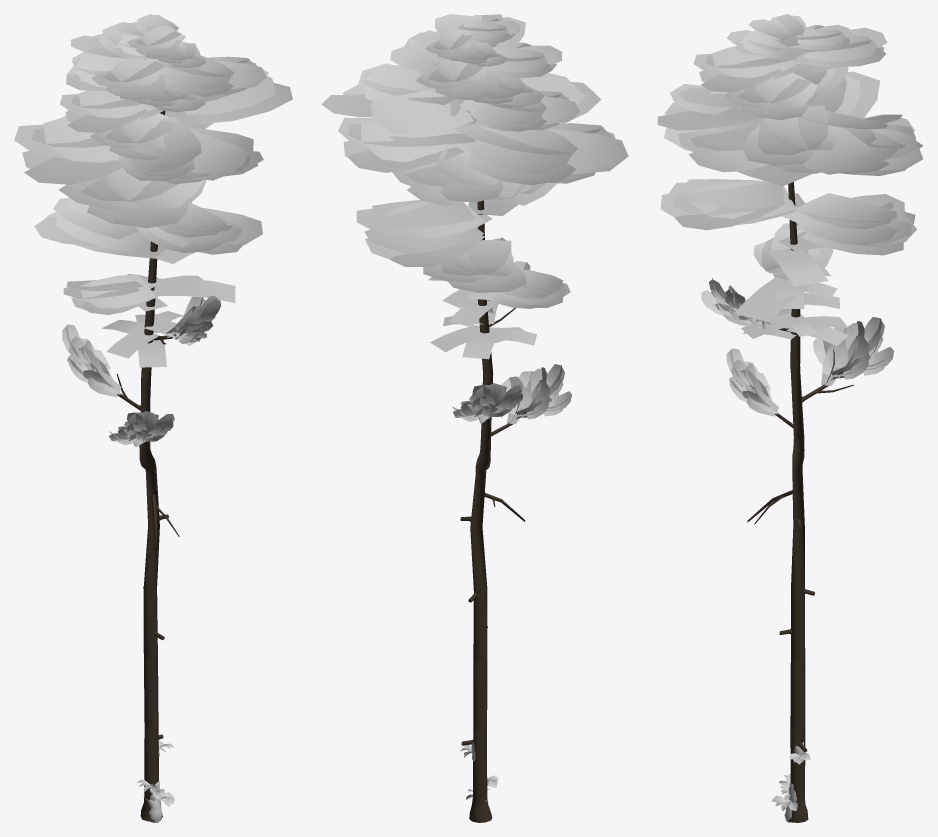
File: Pine_L.A.X1.fbx
3 views of the same model, side by side, from view 1: azimuth 30°, elevation 25°; view 2: azimuth 150°, elevation 25°; view 3: azimuth 270°, elevation 25° (orthographic).
Parts seen in each view (by area): view 1: Pine_L_A_X1; view 2: Pine_L_A_X1; view 3: Pine_L_A_X1.
Boxes of the visible parts, bbox=[...] form: Pine_L_A_X1: bbox=[14, 14, 292, 822]; Pine_L_A_X1: bbox=[321, 14, 628, 822]; Pine_L_A_X1: bbox=[657, 14, 923, 822].
Bounding box in the file's own units: 746 × 2133 × 644.
